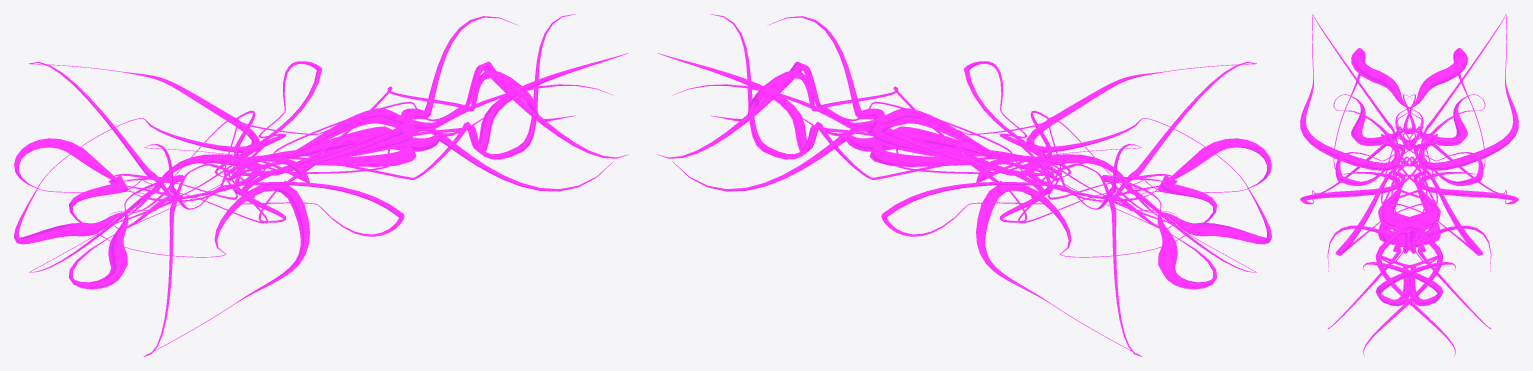
File: wormhead.fbx
3 views of the same model, side by side, from view 1: azimuth 30°, elevation 25°; view 2: azimuth 150°, elevation 25°; view 3: azimuth 270°, elevation 25° (orthographic). The views are drawn at different scales.
Visible parts, largest first — view 1: worm; view 2: worm; view 3: worm.
Part boxes in pixels (<box>): worm: <box>14,14,628,356</box>; worm: <box>657,14,1271,356</box>; worm: <box>1300,14,1518,356</box>.
Bounding box in the file's own units: 3428 × 1227 × 1375.
